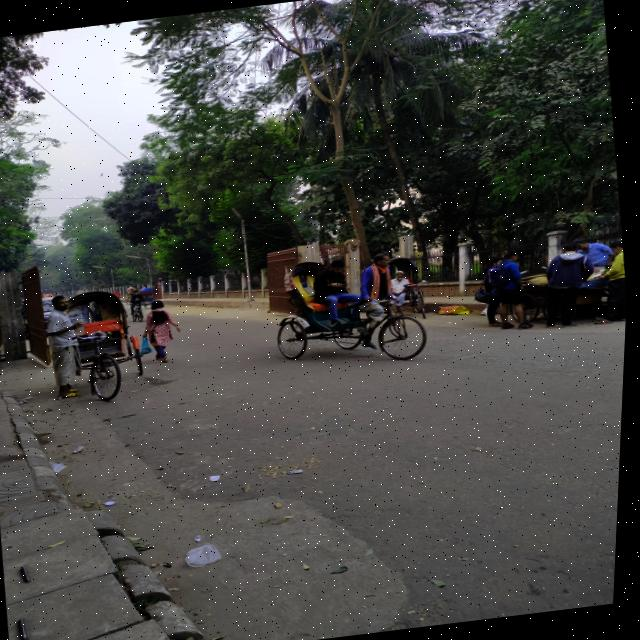rikshaw: (265, 225, 437, 388), (28, 266, 174, 454)
